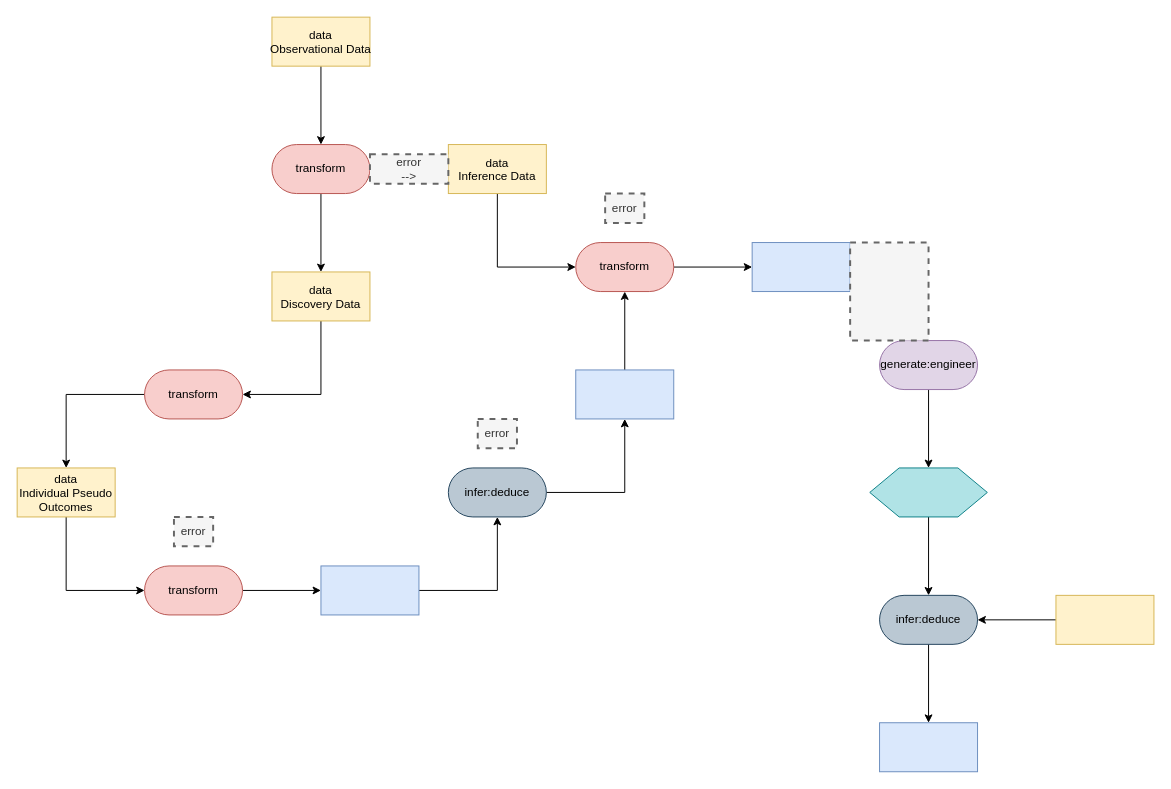
Image size: 1171x789. Some labels were removed from this diagram. Each missing label, with the centre of its shape:
data Clinical Data: the point at 1104,619
error -- | v: the point at 889,291
model:hybrid Treatment Model: the point at 928,492
symbol Candidate Rules: the point at 624,394
symbol Potential Decision Rules: the point at 369,590
symbol Re-estimated Pseudo Outcomes: the point at 800,267
symbol Treatment Effects: the point at 928,747
